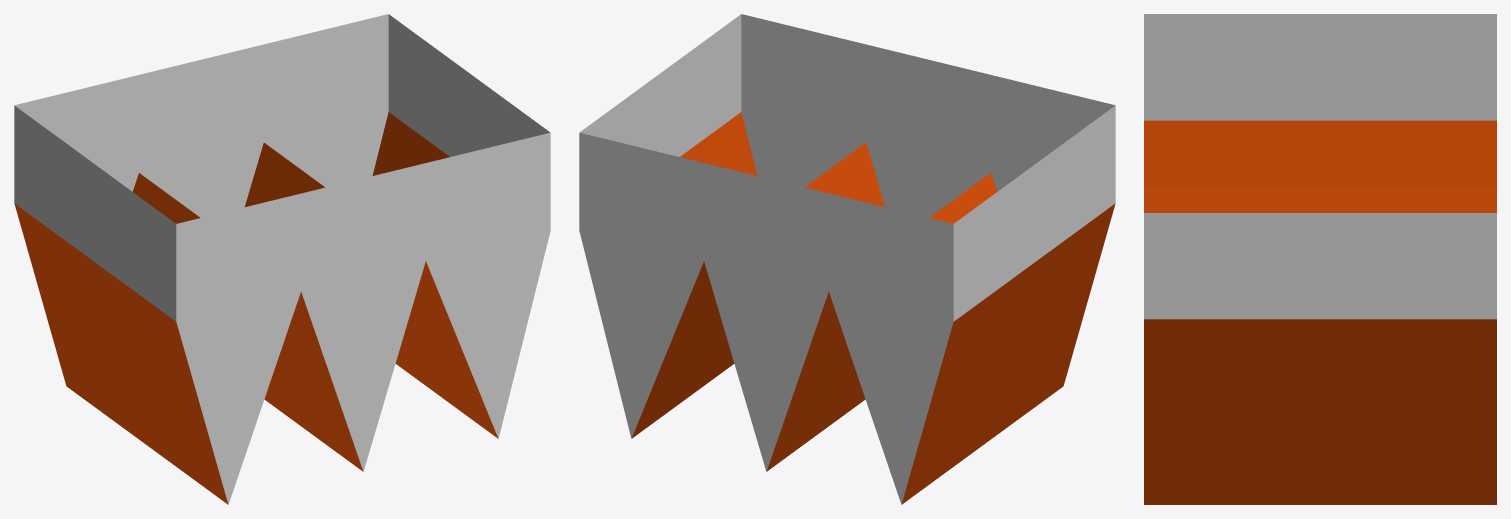
The model's file is spikes_flat.fbx.
3 views of the same model, side by side, from view 1: azimuth 30°, elevation 25°; view 2: azimuth 150°, elevation 25°; view 3: azimuth 270°, elevation 25° (orthographic). The views are drawn at different scales.
Parts seen in each view (by area): view 1: Cube; view 2: Cube; view 3: Cube.
Boxes of the visible parts, x1,y1,x2,y2 form: Cube: (14, 14, 550, 504); Cube: (579, 14, 1115, 504); Cube: (1144, 14, 1496, 504).
Bounding box in the file's own units: 400 × 300 × 300.
